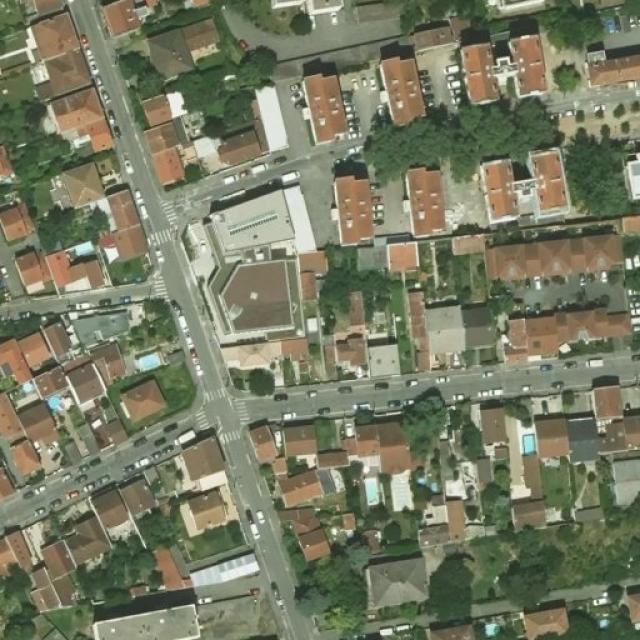immeuble: (186, 201, 320, 338), (471, 221, 633, 293), (87, 584, 284, 640), (488, 302, 635, 368), (130, 12, 234, 95), (206, 71, 292, 169), (468, 148, 572, 226), (452, 26, 548, 109), (55, 291, 157, 359), (285, 65, 360, 148), (413, 294, 497, 363), (180, 430, 227, 545), (397, 159, 457, 240), (367, 50, 428, 127), (322, 170, 382, 247), (29, 12, 84, 95), (359, 556, 439, 612), (101, 190, 159, 267), (146, 115, 202, 191), (330, 330, 402, 384), (56, 82, 113, 148), (55, 159, 120, 208), (226, 337, 310, 372)
maison: (111, 358, 174, 436), (347, 419, 410, 474), (45, 241, 109, 295), (268, 463, 338, 510), (280, 502, 330, 558), (13, 403, 70, 449), (496, 491, 558, 532), (420, 601, 485, 640), (64, 364, 116, 412), (66, 508, 109, 566), (116, 468, 161, 521), (513, 600, 571, 639), (527, 415, 576, 461), (276, 416, 323, 462), (13, 330, 64, 370), (5, 248, 53, 288), (92, 481, 127, 534), (473, 402, 511, 450), (6, 439, 56, 474), (0, 340, 38, 386), (0, 201, 41, 241), (248, 424, 283, 464), (33, 369, 79, 398)
piscine: (127, 339, 176, 377), (507, 427, 555, 463), (356, 465, 389, 511), (62, 232, 102, 265), (11, 369, 47, 402), (37, 385, 75, 416)
